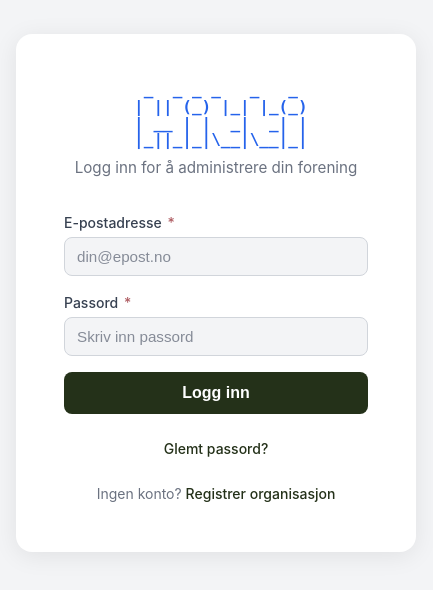
Test case: LoginPage › viser feilmelding når innlogging mislykkes
Type "feil@hitti.no" into the field labelled "E-postadresse *" at (216, 256), box [64,237,368,276]
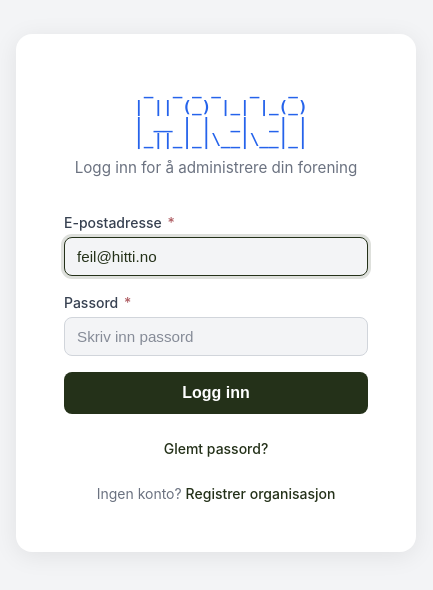
Type "feilpassord" into the password field labelled "Passord *" at (216, 336), box [64,317,368,356]
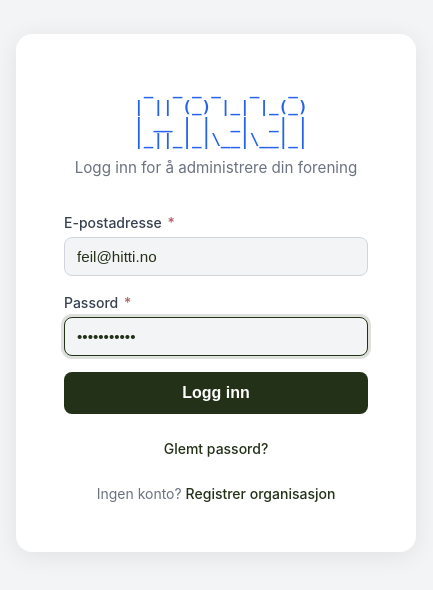
Click the button "Logg inn" at (216, 393), box [64,372,368,414]
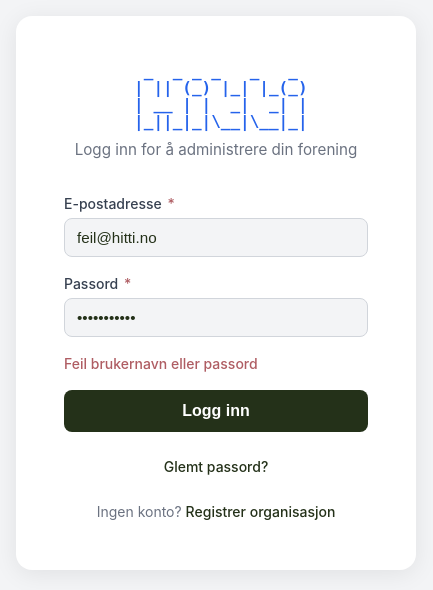
Result: the text "Feil brukernavn eller passord" is shown at [64,356,258,372]
